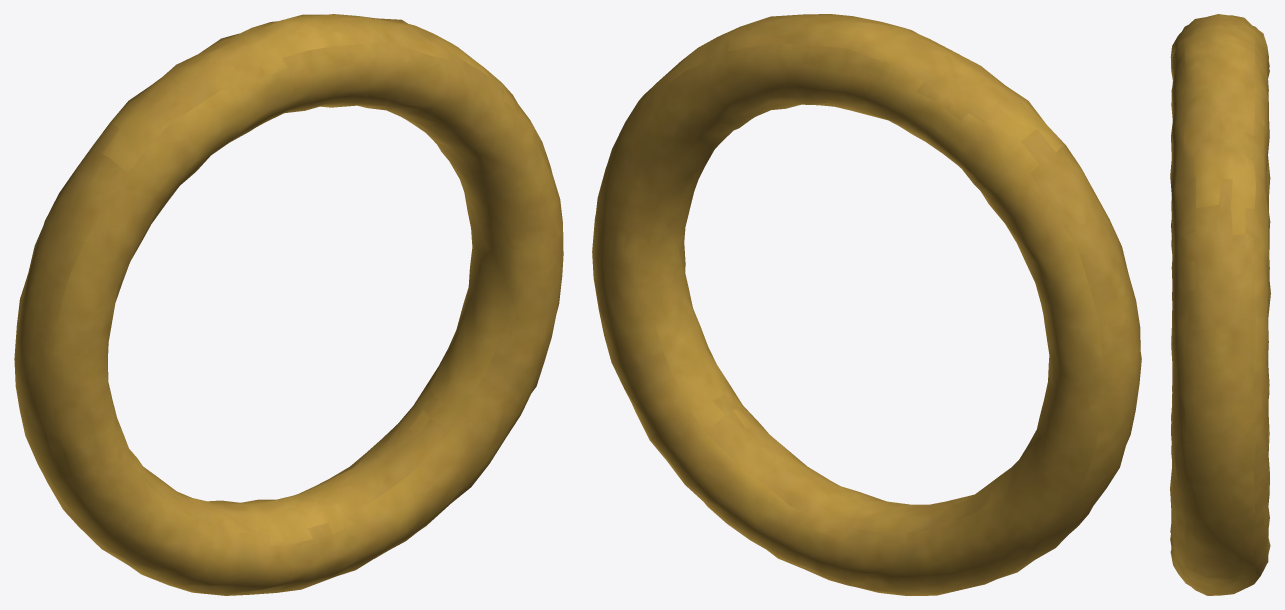
3 renders of one model, left to right at view 1: azimuth 30°, elevation 25°; view 2: azimuth 150°, elevation 25°; view 3: azimuth 270°, elevation 25°, orthographic. The views are drawn at different scales.
Parts seen in each view (by area): view 1: ring; view 2: ring; view 3: ring.
Boxes of the visible parts, left/top/right/bottom form: ring: left=14, top=14, right=563, bottom=595; ring: left=592, top=14, right=1141, bottom=595; ring: left=1170, top=14, right=1270, bottom=595.
Bounding box in the file's own units: 0.0223 × 0.0223 × 0.00385.
Materials: 1 (1 with a texture image).
